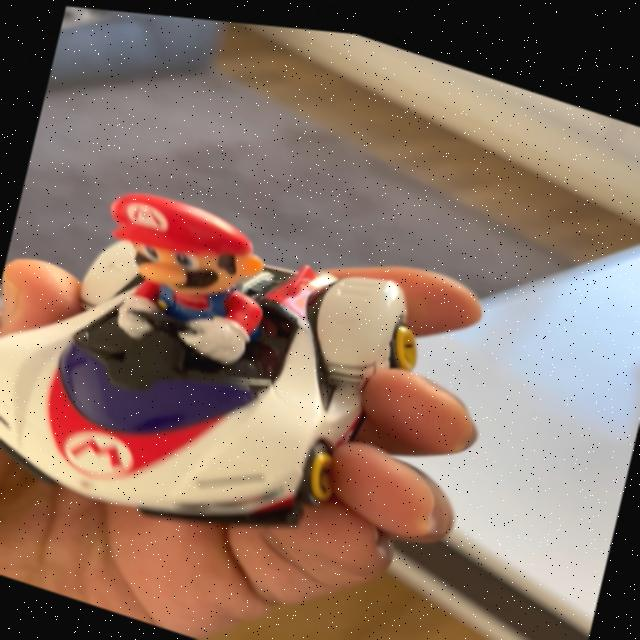mario: (0, 138, 440, 590)
